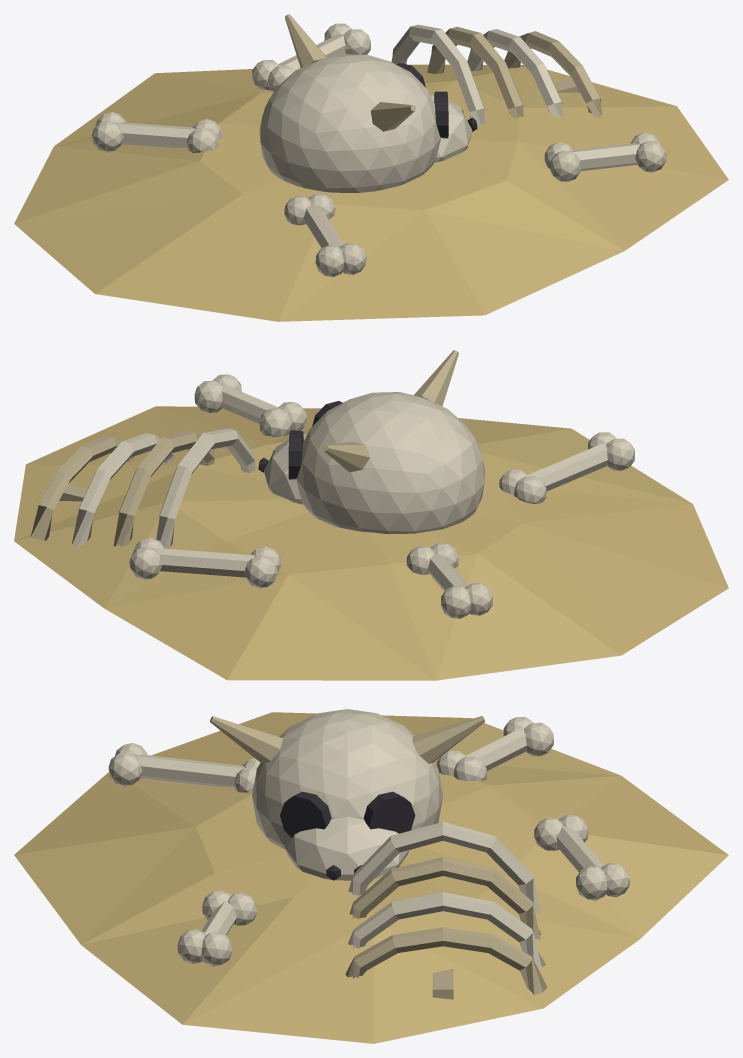
File: bone_pile.glb
3 renders of one model, top to bottom at view 1: azimuth 30°, elevation 25°; view 2: azimuth 150°, elevation 25°; view 3: azimuth 270°, elevation 25°, orthographic. The views are drawn at different scales.
Parts seen in each view (by area): view 1: bone_pile; view 2: bone_pile; view 3: bone_pile.
Boxes of the visible parts, x1=… form: bone_pile: x1=14, y1=14, x2=728, y2=321; bone_pile: x1=14, y1=350, x2=728, y2=680; bone_pile: x1=14, y1=709, x2=728, y2=1043.
Size of the model in its own units: 4.52 by 0.9913 by 4.12.
